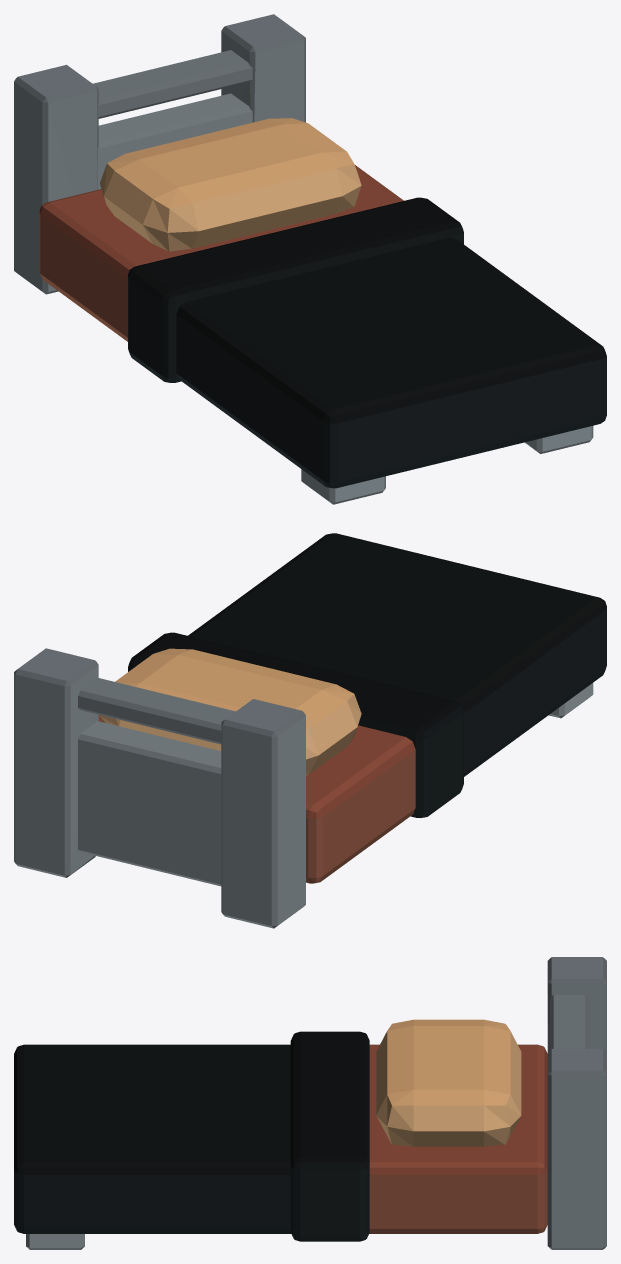
The model's file is kk_bed_single_A.obj.
3 views of the same model, one above another, from view 1: azimuth 30°, elevation 25°; view 2: azimuth 150°, elevation 25°; view 3: azimuth 270°, elevation 25° (orthographic). The views are drawn at different scales.
Size of the model in its own units: 1.6 by 1 by 3.
